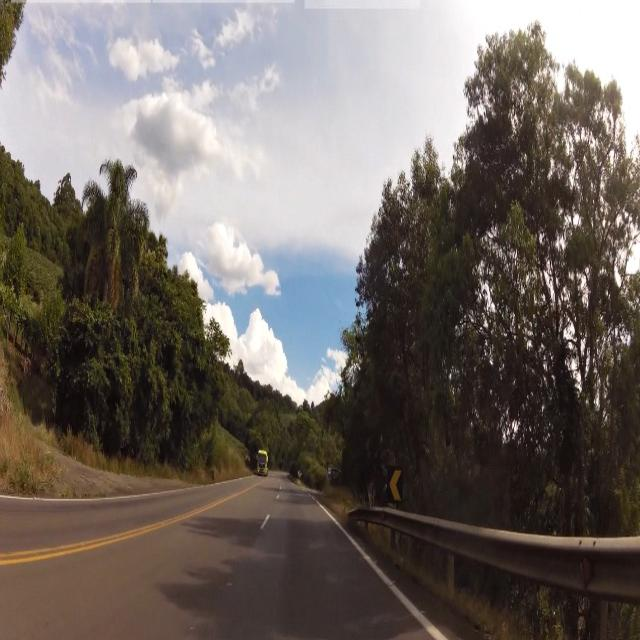Del: (387, 461, 410, 509)
